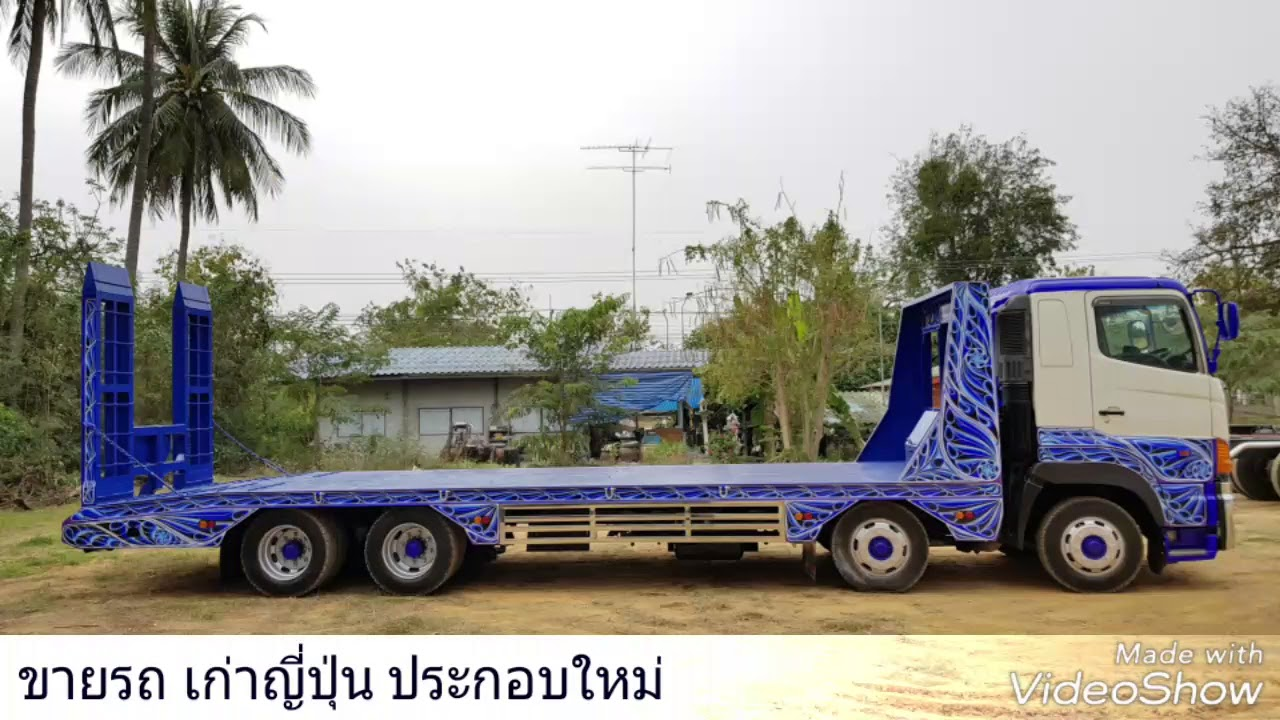truck: (49, 252, 1245, 597)
